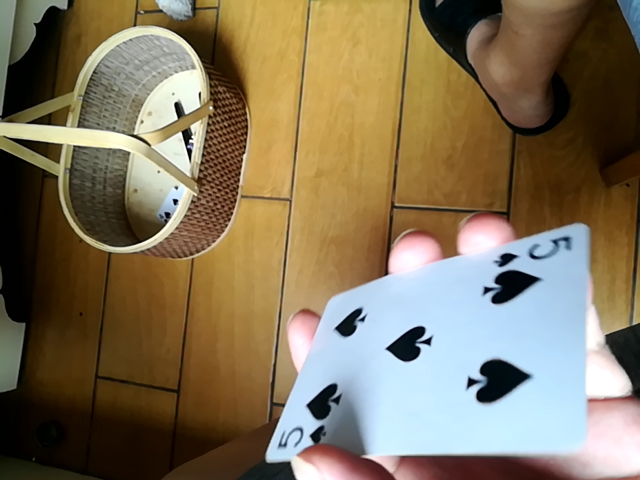ht 5: (275, 220, 602, 465)
